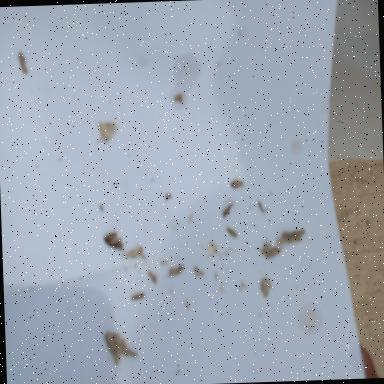pbw: (104, 329, 137, 363), (276, 228, 305, 244), (260, 242, 282, 258), (104, 231, 122, 250), (18, 51, 29, 75)
